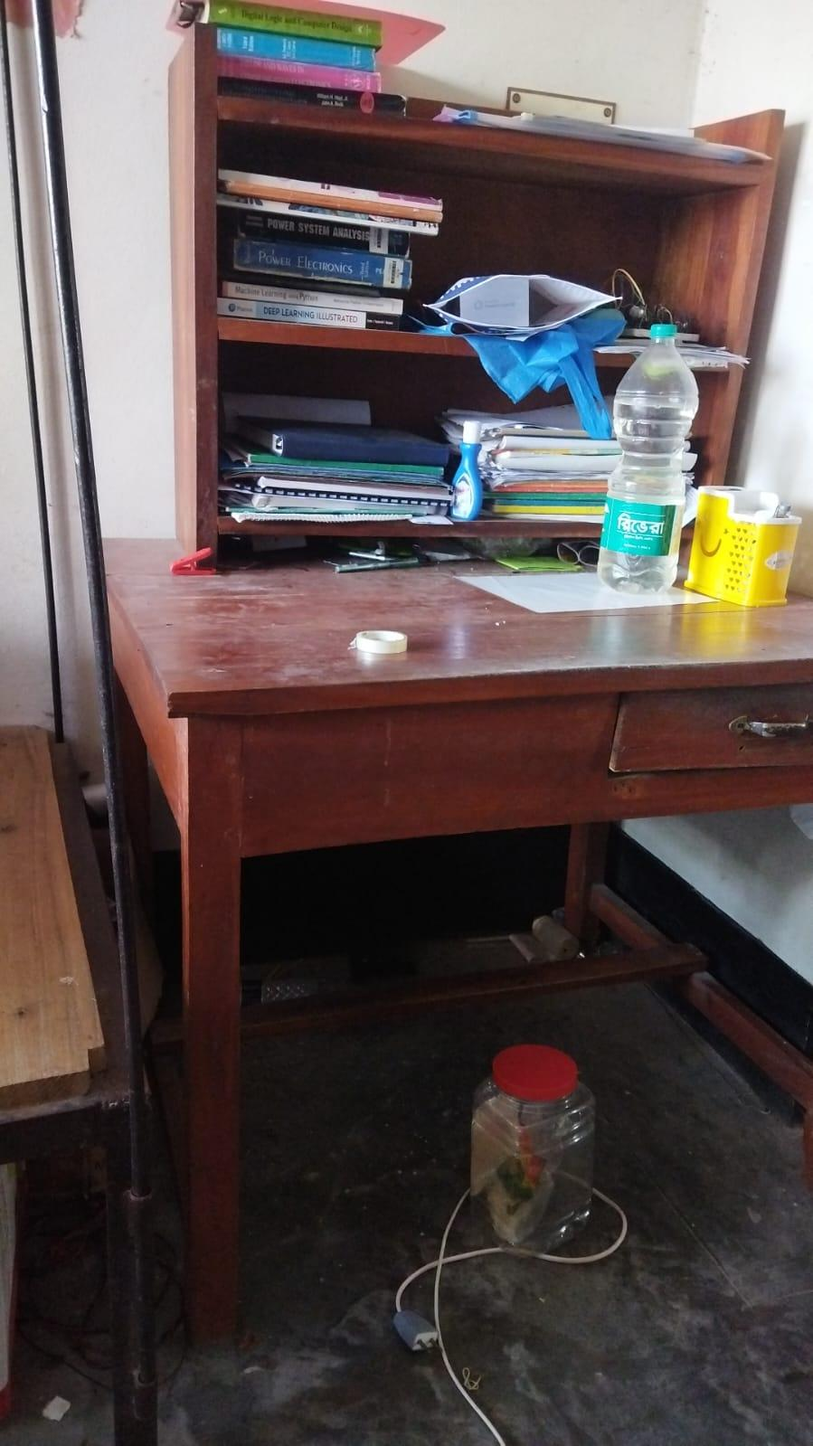Book: (210, 145, 430, 334), (203, 2, 415, 125)
Bottle: (470, 1032, 618, 1244), (613, 306, 680, 603)
Drawer: (582, 695, 813, 804)
Pen Stand: (693, 475, 796, 598)
